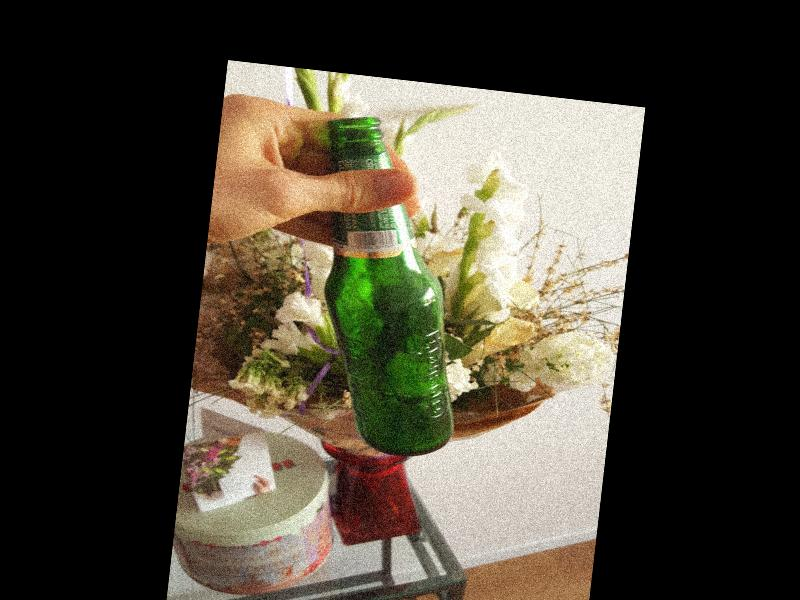Beer: (306, 114, 487, 461)
